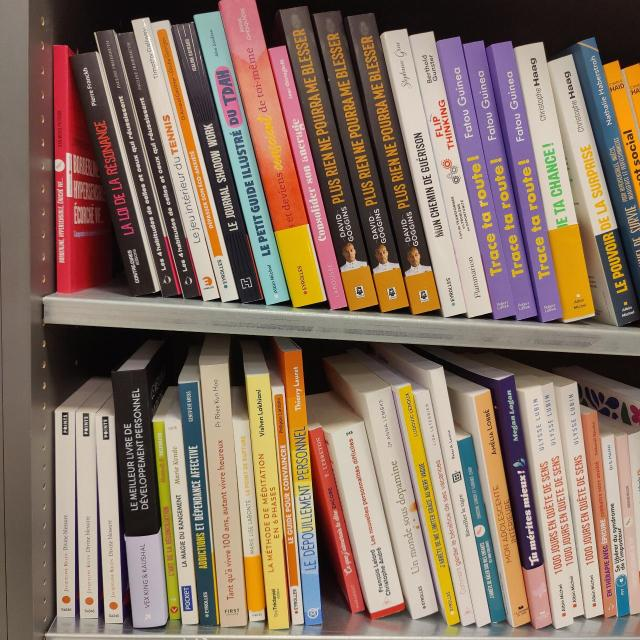book: (219, 0, 326, 307), (281, 6, 377, 310), (315, 9, 409, 312), (194, 12, 290, 305), (346, 13, 439, 315), (171, 21, 262, 303), (132, 18, 219, 301), (151, 20, 238, 302), (550, 55, 640, 326), (409, 31, 492, 317), (386, 28, 466, 319), (95, 29, 179, 297), (516, 43, 596, 323), (437, 36, 516, 318), (117, 32, 200, 299), (69, 52, 156, 296), (464, 39, 539, 319), (269, 46, 348, 309), (491, 42, 563, 322), (366, 385, 439, 620), (577, 38, 640, 306), (429, 368, 491, 627), (398, 384, 460, 626), (415, 390, 477, 626), (331, 422, 404, 621), (113, 369, 166, 628), (474, 390, 531, 627), (499, 374, 552, 628), (524, 385, 574, 628), (201, 363, 246, 626), (309, 428, 366, 614), (247, 373, 288, 629), (541, 382, 585, 618), (562, 381, 604, 618), (285, 351, 321, 626), (180, 382, 219, 625), (458, 436, 506, 622), (272, 387, 305, 625), (164, 421, 198, 626), (233, 420, 266, 622), (585, 410, 616, 617), (152, 421, 181, 619), (97, 416, 123, 622), (74, 412, 98, 618), (602, 434, 629, 616), (54, 44, 71, 294), (55, 412, 75, 617), (618, 433, 640, 614)
